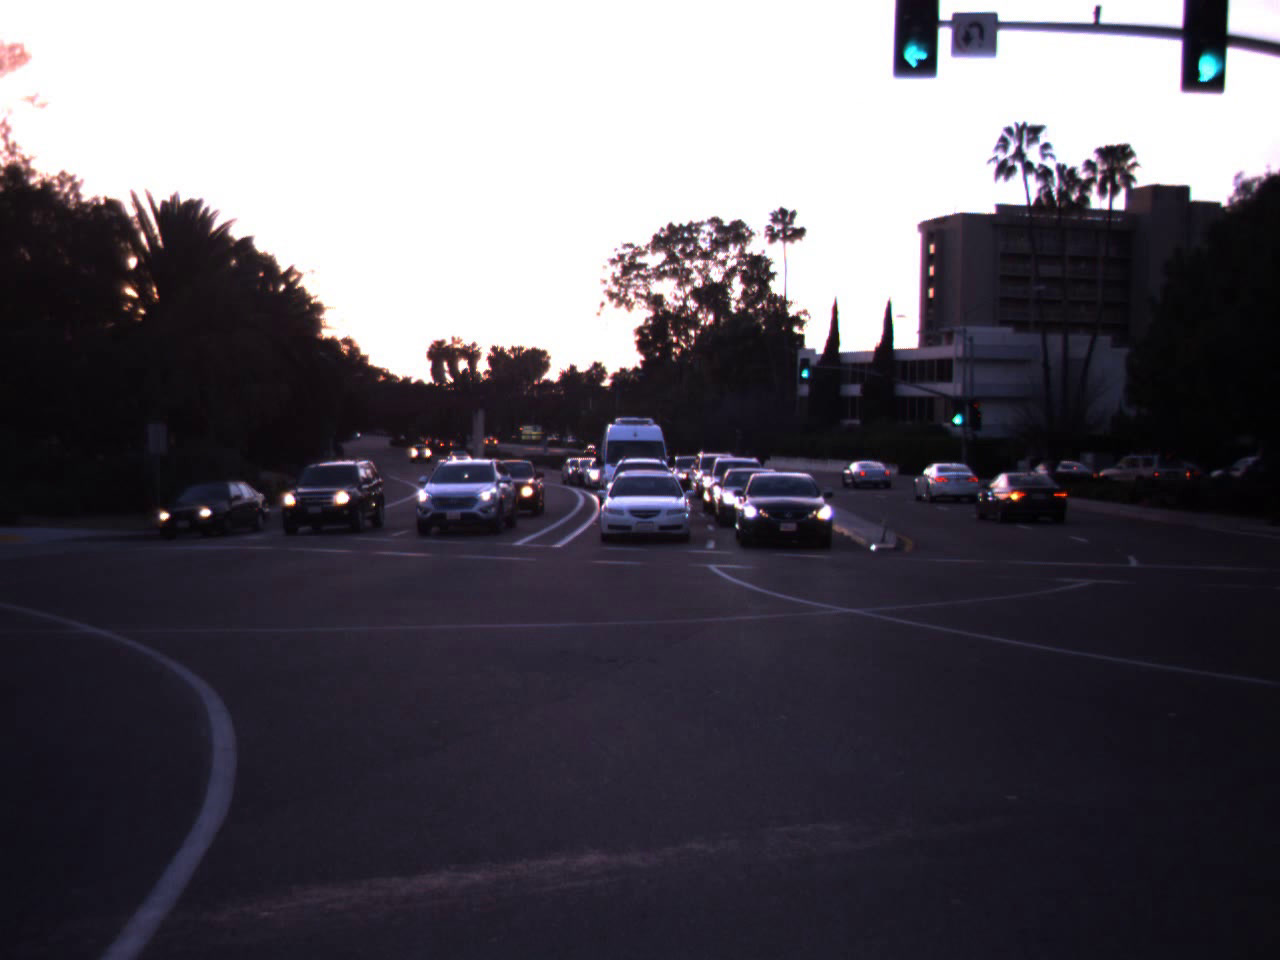go: (867, 0, 966, 83), (1180, 0, 1237, 94), (946, 386, 964, 426), (796, 345, 814, 380)
